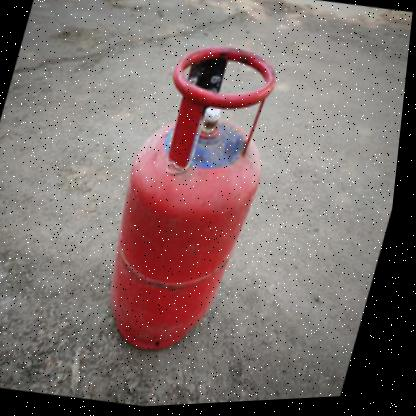gas-tank: (79, 30, 304, 379)
